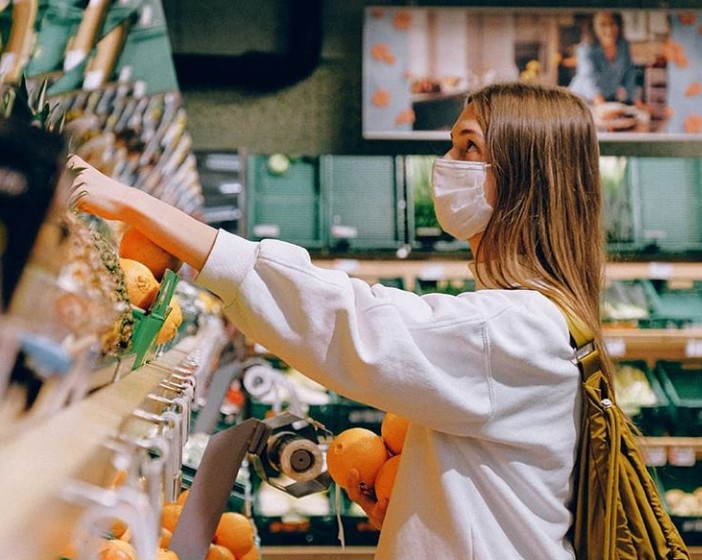face_with_mask: (430, 85, 581, 242)
